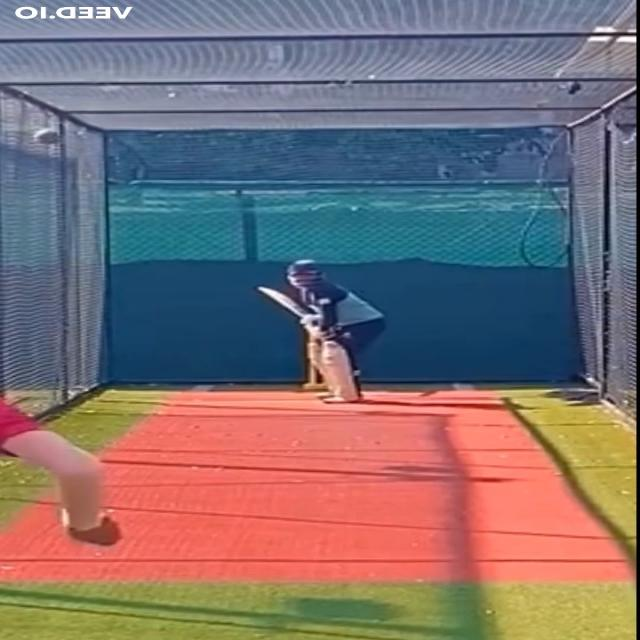ball: (31, 125, 67, 149)
